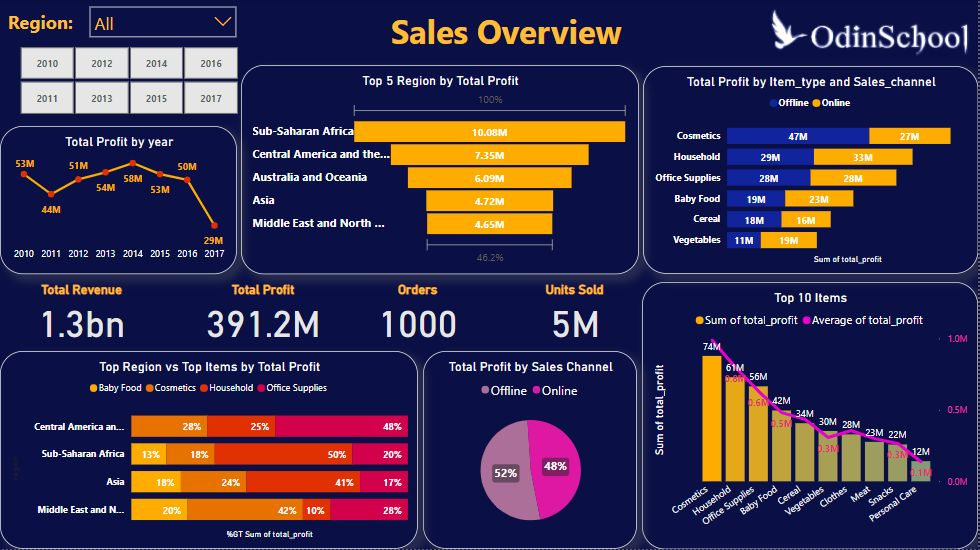

The page's visual inventory and layout, read from the dashboard file:
{"tool":"powerbi","page":{"name":"dashboard","canvas":[1280,720],"ordinal":0},"visuals":[{"type":"lineChart","title":"Total Profit by year","fields":{"Category":["sales_data.year","sales_data.month"],"Y":["Sum(sales_data.total_profit)"]},"box":[0,166.3,310.3,193.7],"z":0},{"type":"funnel","title":" Top 5 Region by Total Profit","fields":{"Category":["sales_data.region"],"Y":["Sum(sales_data.total_profit)"]},"box":[315.5,86.4,521,273.6],"z":1000},{"type":"lineClusteredColumnComboChart","title":"Top 10 Items","fields":{"Category":["sales_data.item_type"],"Y":["Sum(sales_data.total_profit)"],"Y2":["Avg(sales_data.total_profit)"]},"box":[840.4,370.5,439.9,349.5],"z":2000},{"type":"slicer","fields":{"Values":["sales_data.year"]},"box":[1.3,56.3,333.8,100.8],"z":3000},{"type":"textbox","box":[506.5,8.3,349.6,75.7],"z":4000},{"type":"slicer","fields":{"Values":["sales_data.region"]},"box":[107.4,0,212,67.4],"z":5000},{"type":"textbox","box":[5.2,7.9,112.6,41.9],"z":6000},{"type":"card","title":"Total Revenue","fields":{"Values":["Sum(sales_data.total_revenue)"]},"box":[24.9,370.5,163.6,81.2],"z":7000},{"type":"card","title":"Total Profit","fields":{"Values":["Sum(sales_data.total_profit)"]},"box":[263.1,370.5,162.3,81.2],"z":8000},{"type":"card","title":"Orders","fields":{"Values":["CountNonNull(sales_data.order_id)"]},"box":[464.7,370.5,163.6,81.2],"z":9000},{"type":"pieChart","title":"Total Profit by Sales Channel","fields":{"Category":["sales_data.sales_channel"],"Y":["CountNonNull(sales_data.sales_channel)"]},"box":[553.7,460.8,280.1,259.2],"z":10000},{"type":"hundredPercentStackedBarChart","title":" Top Region vs Top Items by Total Profit","fields":{"Category":["sales_data.region"],"Series":["sales_data.item_type"],"Y":["Sum(sales_data.total_profit)"]},"box":[0,460.8,547.2,259.2],"z":12000},{"type":"barChart","title":"Total Profit by Item_type and Sales_channel","fields":{"Category":["sales_data.item_type"],"Y":["Sum(sales_data.total_profit)"],"Series":["sales_data.sales_channel"]},"box":[841.7,87.7,438.5,272.3],"z":13000},{"type":"card","title":"Units Sold","fields":{"Values":["Sum(sales_data.units_sold)"]},"box":[670.3,370.5,163.6,81.2],"z":14000},{"type":"shape","box":[1.3,360,832.6,100.8],"z":15000}]}

Visuals, with their boxes in screenshot pixels (x1, y1, x2, y2), scaled from the page's 1280x720 canvas onto the 980x550 screenshot:
"Total Profit by year" lineChart: select_region(0, 127, 238, 275)
" Top 5 Region by Total Profit" funnel: select_region(242, 66, 640, 275)
"Top 10 Items" lineClusteredColumnComboChart: select_region(643, 283, 979, 549)
slicer - sales_data.year: select_region(1, 43, 257, 120)
textbox: select_region(388, 6, 655, 64)
slicer - sales_data.region: select_region(82, 0, 245, 51)
textbox: select_region(4, 6, 90, 38)
"Total Revenue" card: select_region(19, 283, 144, 345)
"Total Profit" card: select_region(201, 283, 326, 345)
"Orders" card: select_region(356, 283, 481, 345)
"Total Profit by Sales Channel" pieChart: select_region(424, 352, 638, 549)
" Top Region vs Top Items by Total Profit" hundredPercentStackedBarChart: select_region(0, 352, 419, 549)
"Total Profit by Item_type and Sales_channel" barChart: select_region(644, 67, 979, 275)
"Units Sold" card: select_region(513, 283, 638, 345)
shape: select_region(1, 275, 638, 352)
